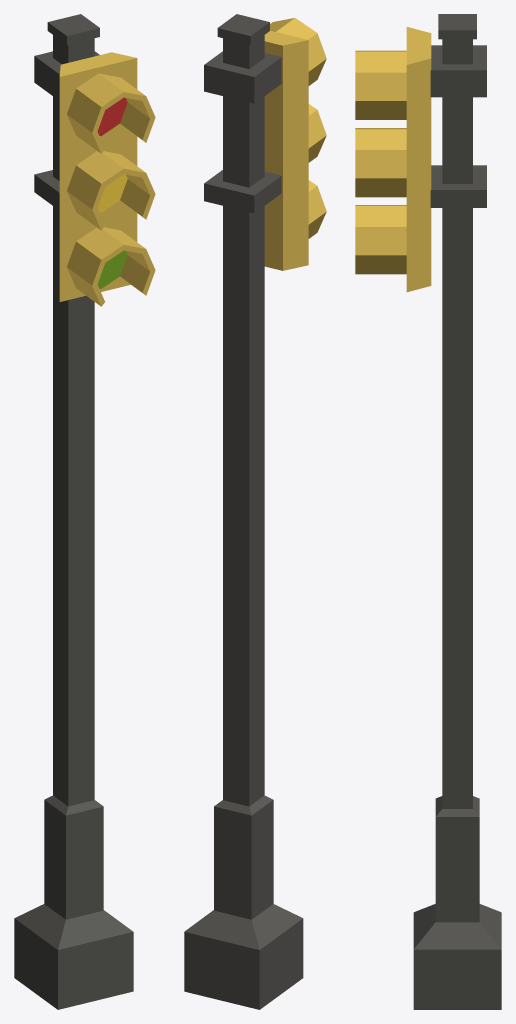
Rendered from trafficlights.fbx.
3 views of the same model, side by side, from view 1: azimuth 30°, elevation 25°; view 2: azimuth 150°, elevation 25°; view 3: azimuth 270°, elevation 25° (orthographic).
Parts seen in each view (by area): view 1: Traffic_Light_1; view 2: Traffic_Light_1; view 3: Traffic_Light_1.
Boxes of the visible parts, x1,y1,x2,y2 form: Traffic_Light_1: [14, 14, 155, 1009]; Traffic_Light_1: [184, 14, 326, 1009]; Traffic_Light_1: [355, 14, 501, 1009].
Size of the model in its own units: 7.4 by 87.18 by 11.93.
Materials: 1 (1 with a texture image).
